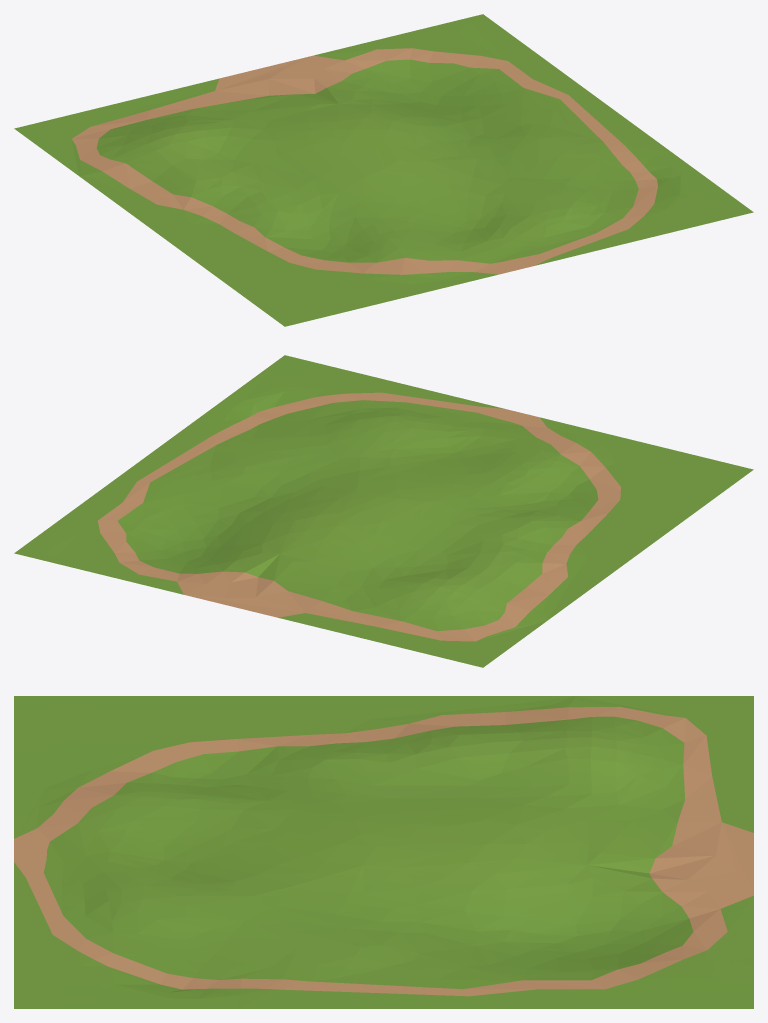
The model's file is SM_Floor_Park_01.fbx.
3 views of the same model, one above another, from view 1: azimuth 30°, elevation 25°; view 2: azimuth 150°, elevation 25°; view 3: azimuth 270°, elevation 25° (orthographic). The views are drawn at different scales.
Visible parts, largest first — view 1: SM_Floor_Park_01; view 2: SM_Floor_Park_01; view 3: SM_Floor_Park_01.
Boxes of the visible parts, <box> form: SM_Floor_Park_01: <box>14,14,753,326</box>; SM_Floor_Park_01: <box>14,355,753,667</box>; SM_Floor_Park_01: <box>14,696,753,1008</box>.
Bounding box in the file's own units: 40 × 1.85 × 40.
